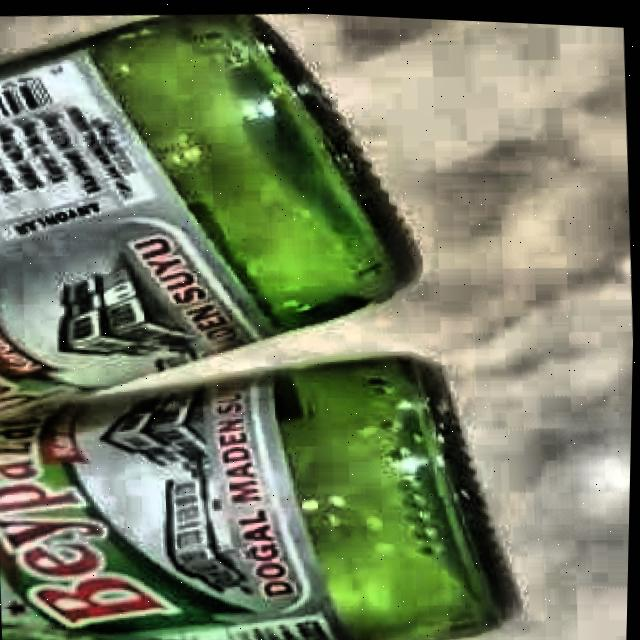glass: (0, 12, 521, 640)
